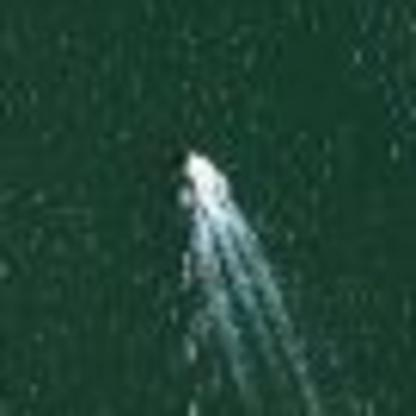ship: (169, 143, 236, 215)
